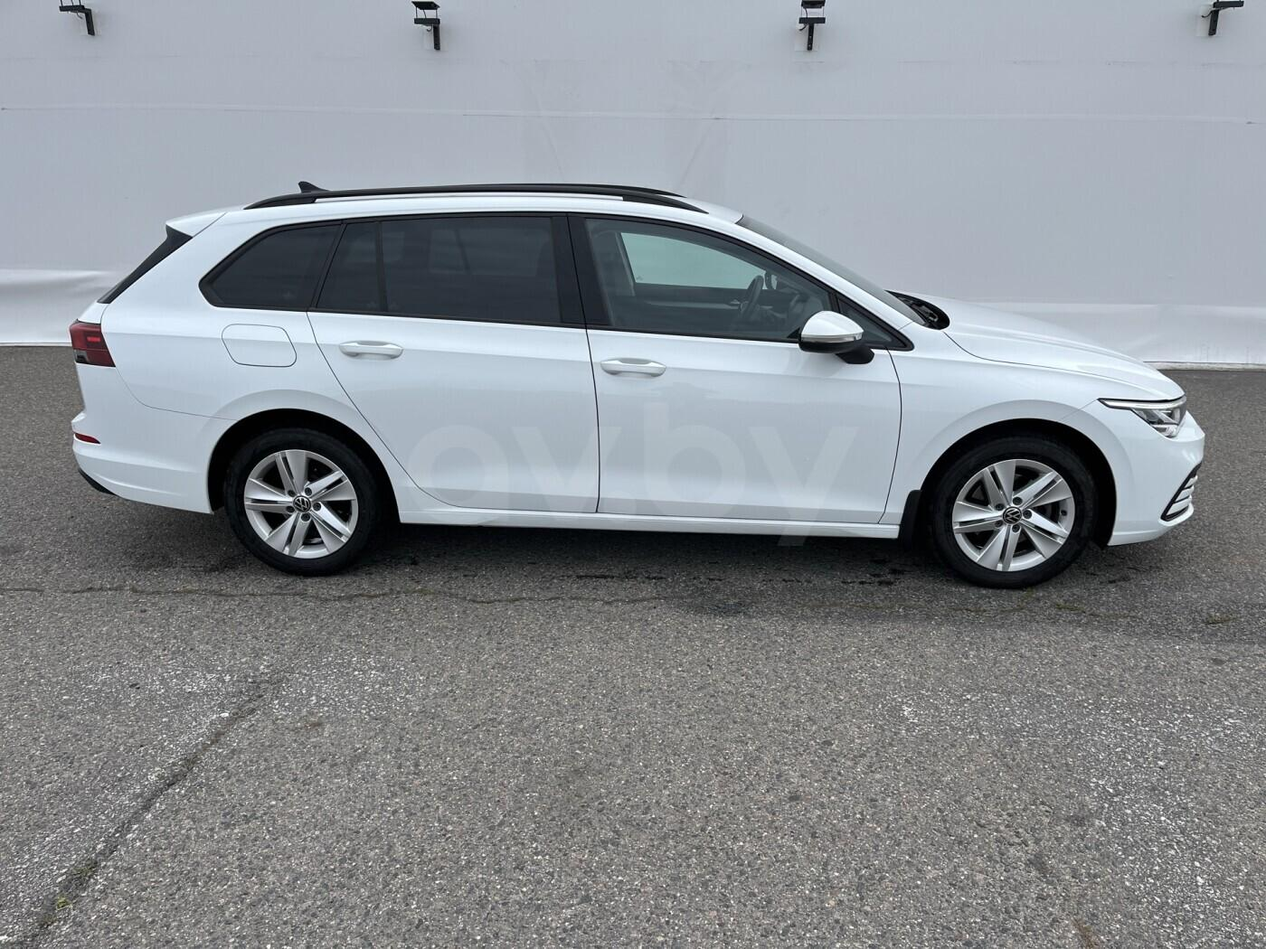Golf_2019: (63, 179, 1207, 591)
